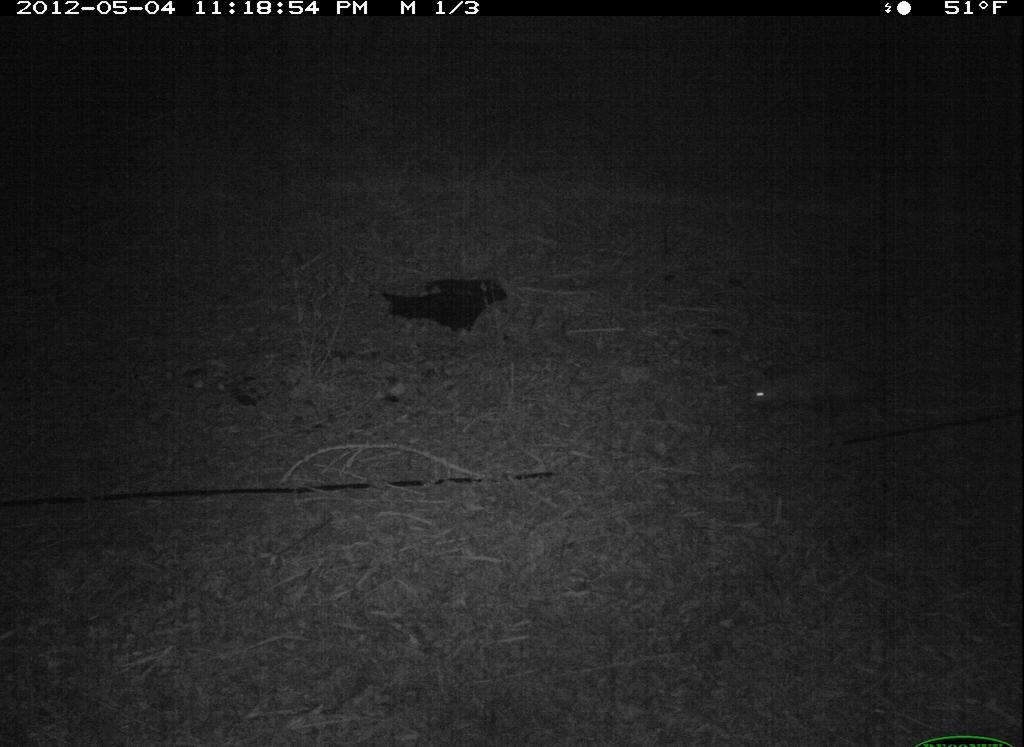opossum: (722, 328, 949, 445)
